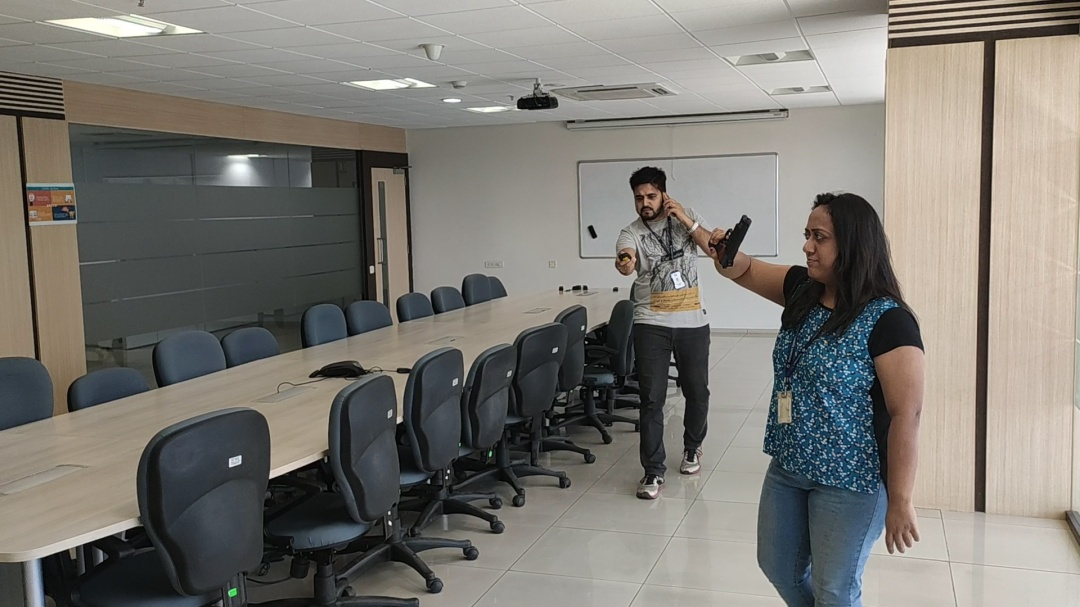gun: (707, 214, 752, 270)
